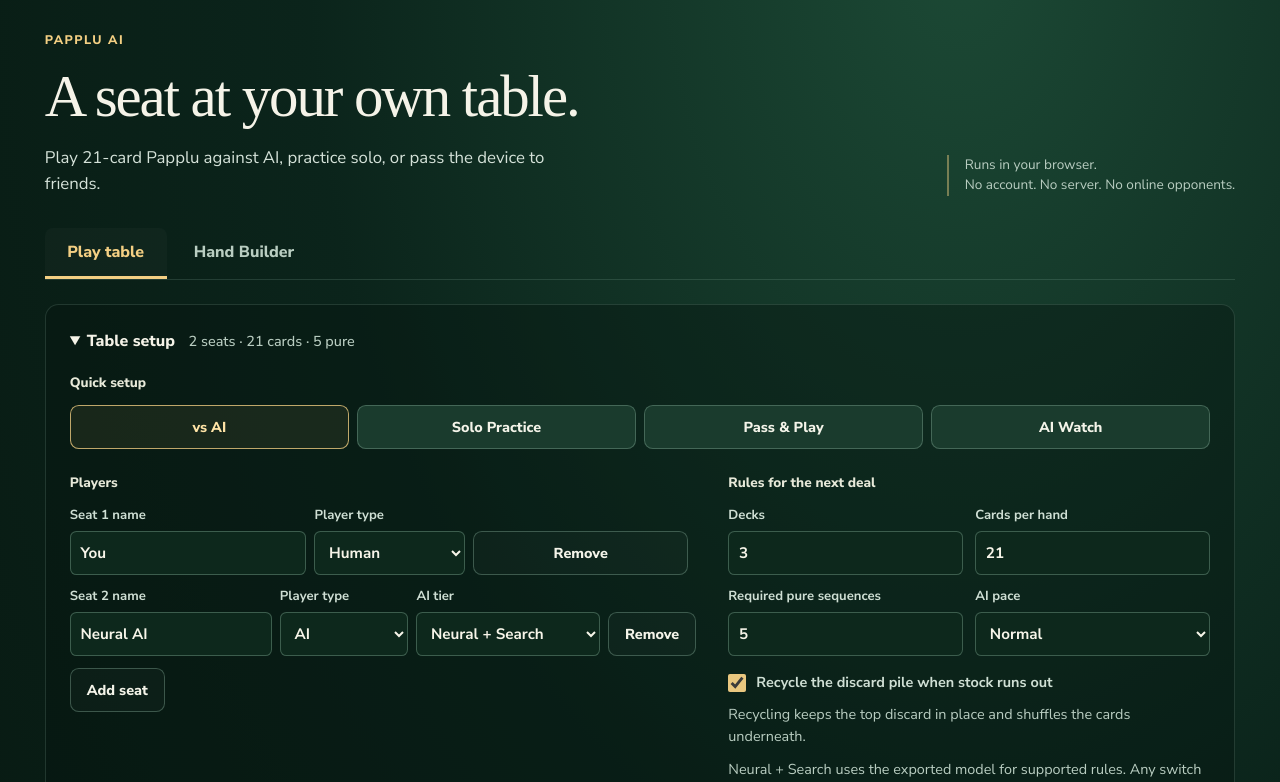
Test case: leaving during builder evaluation keeps the draft and allows a new check after returning
Click the tab "Hand Builder" at x=244, y=253, box [171,228,316,279]
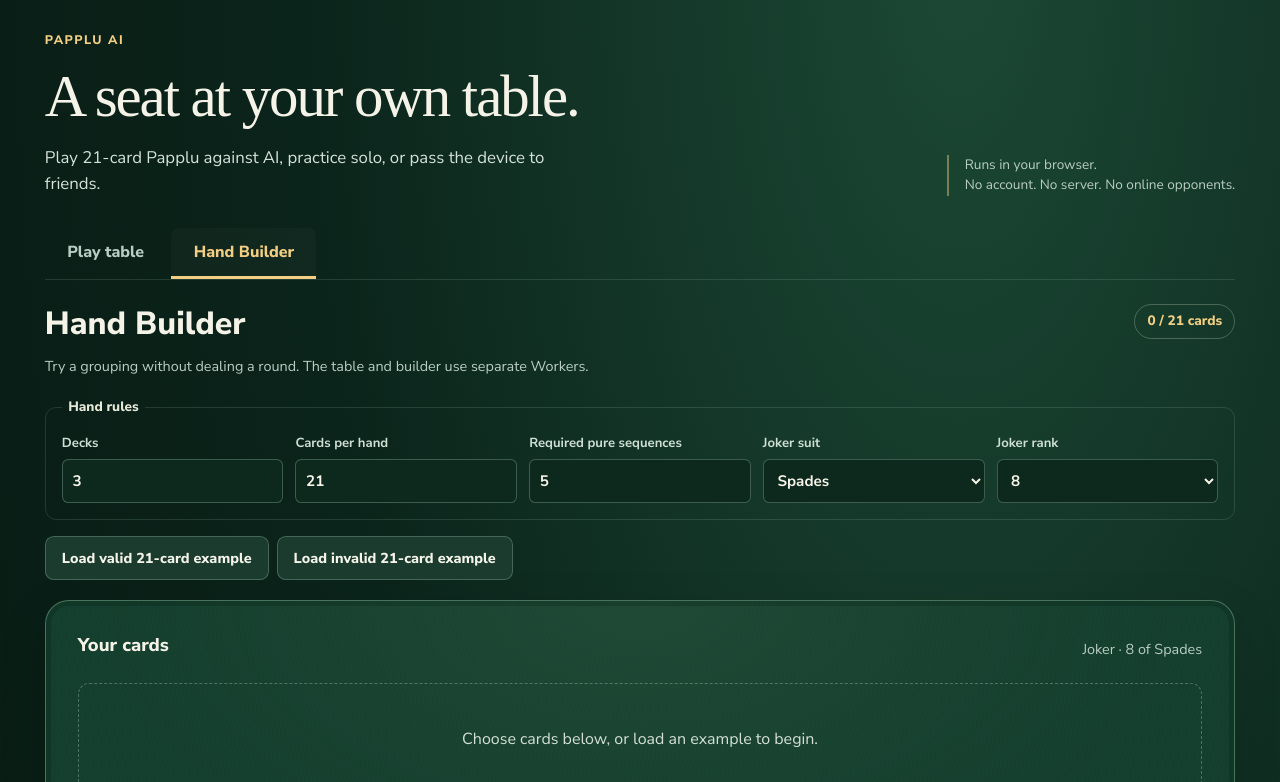
Click the button "Load valid 21-card example" at x=157, y=558, box [45,536,269,580]
(page scrolled)
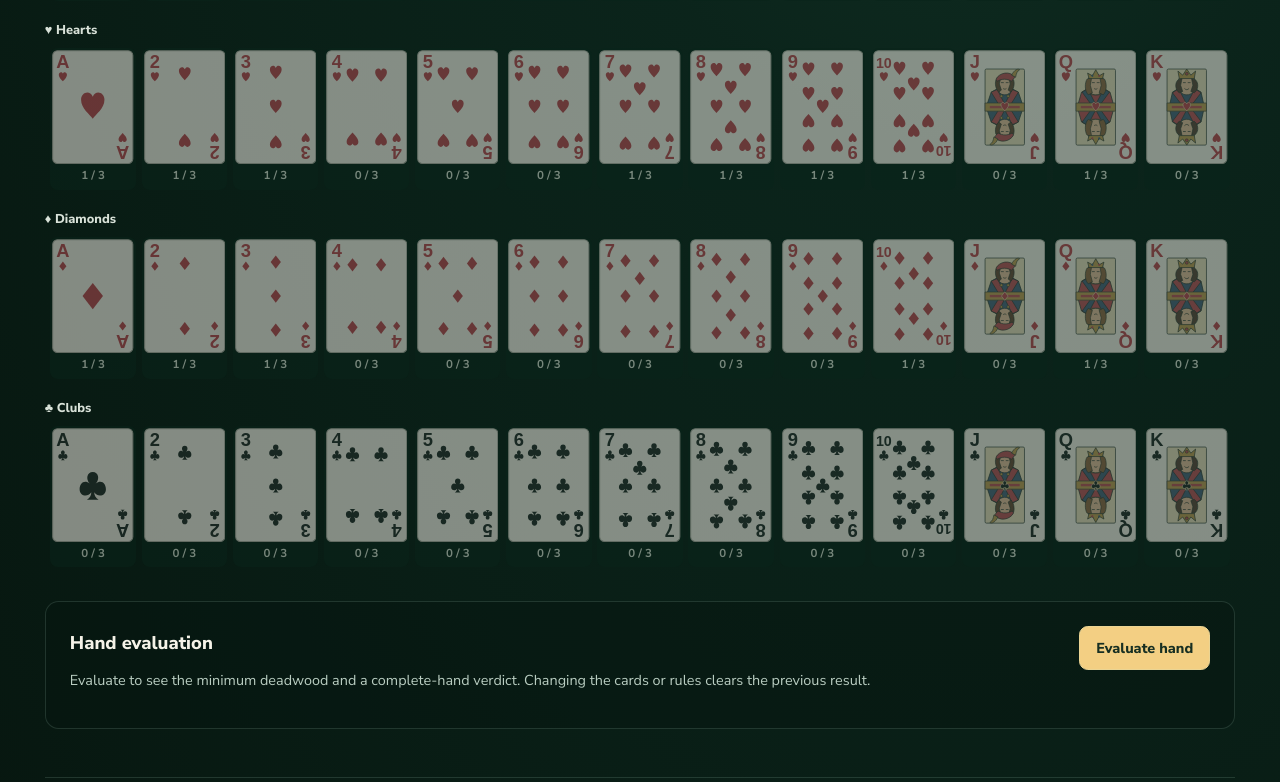
Click the button "Evaluate hand" at x=1145, y=648, box [1079,626,1210,670]
(page scrolled)
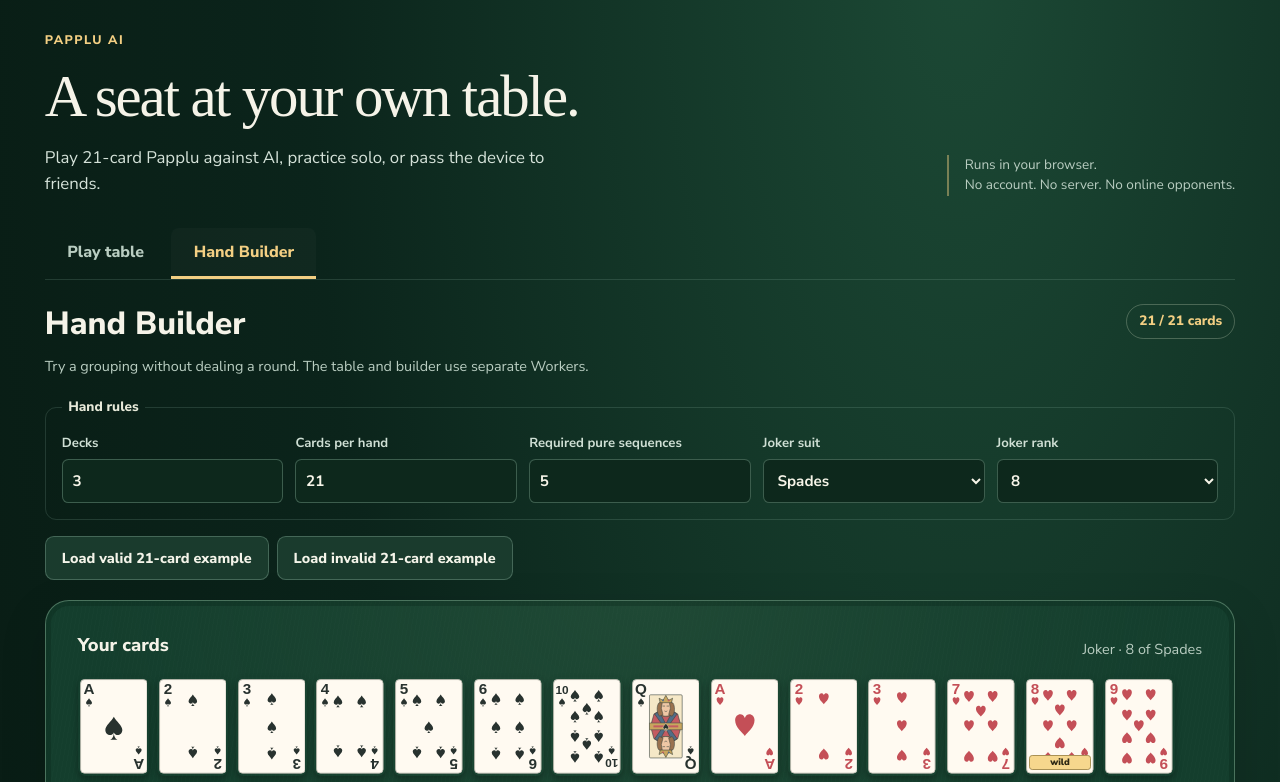
Click the tab "Play table" at x=106, y=253, box [45,228,166,279]
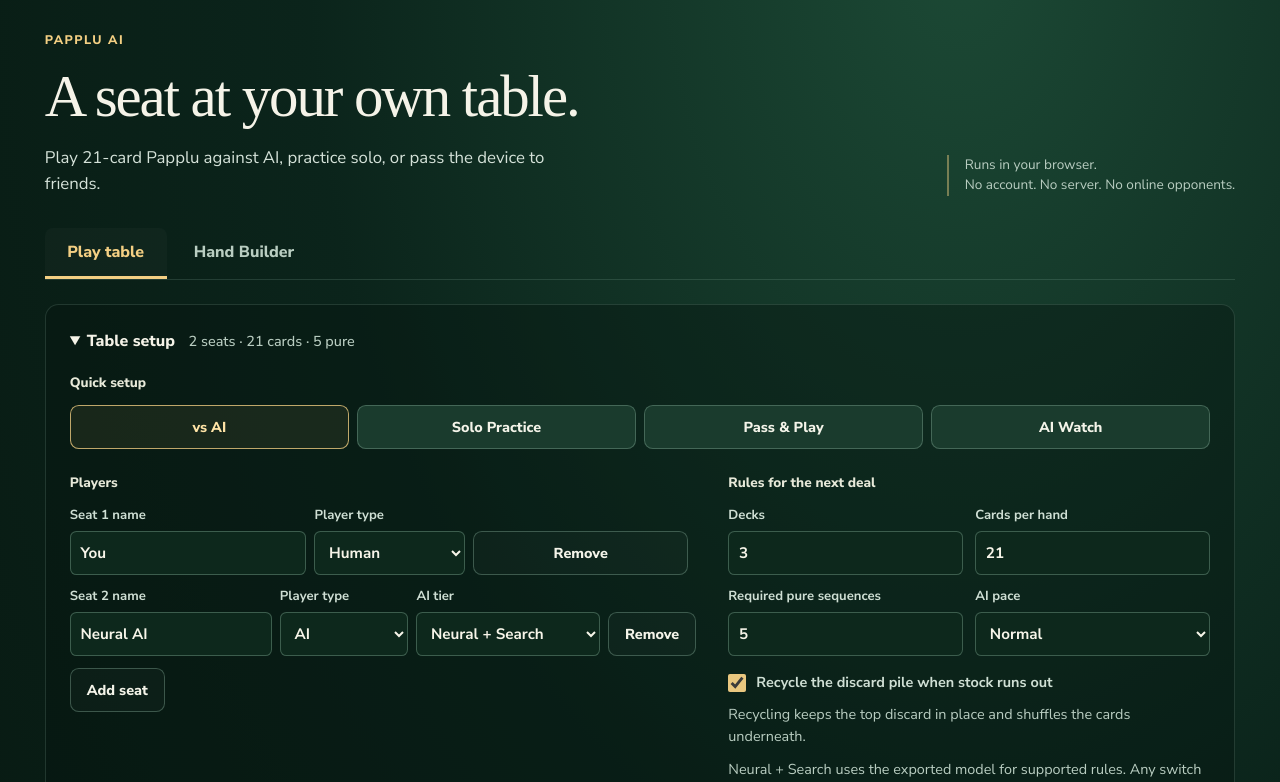
Click the tab "Hand Builder" at x=244, y=253, box [171,228,316,279]
(page scrolled)
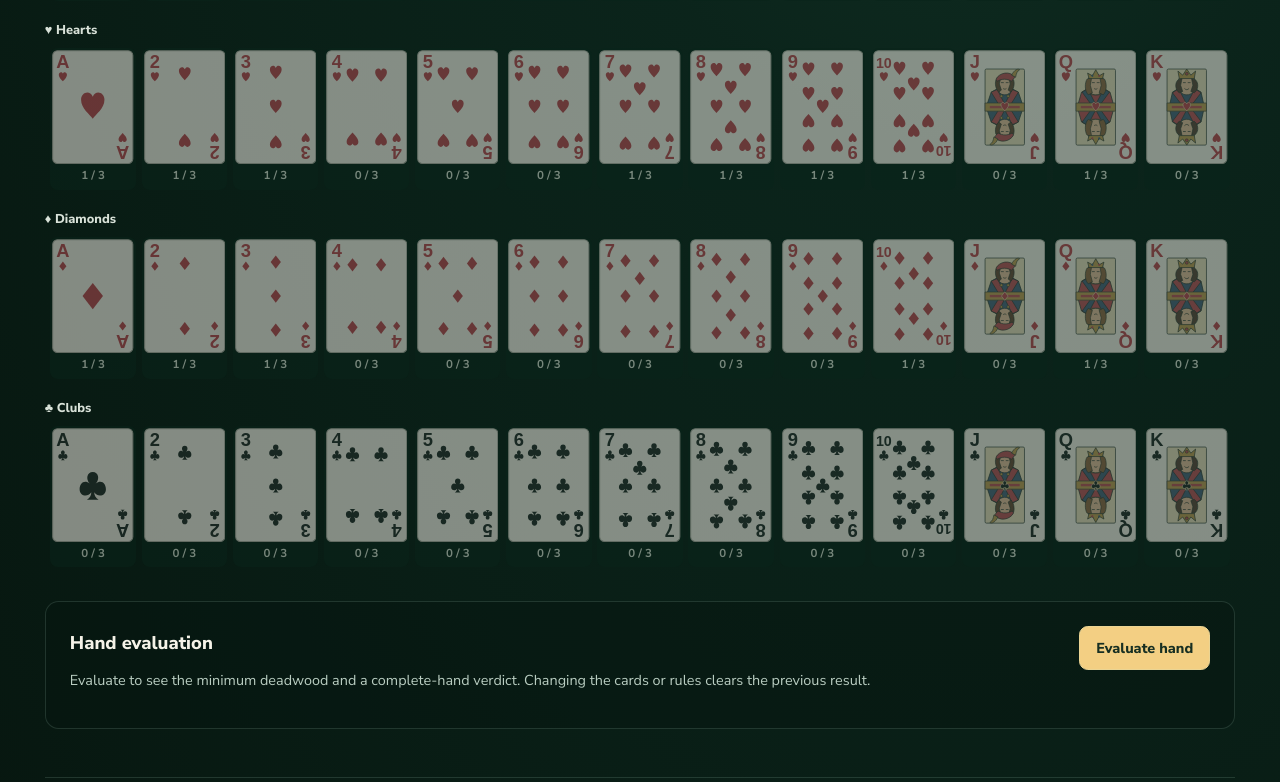
Check: the button "Evaluate hand" is enabled
Click the button "Evaluate hand" at x=1145, y=648, box [1079,626,1210,670]
(page scrolled)
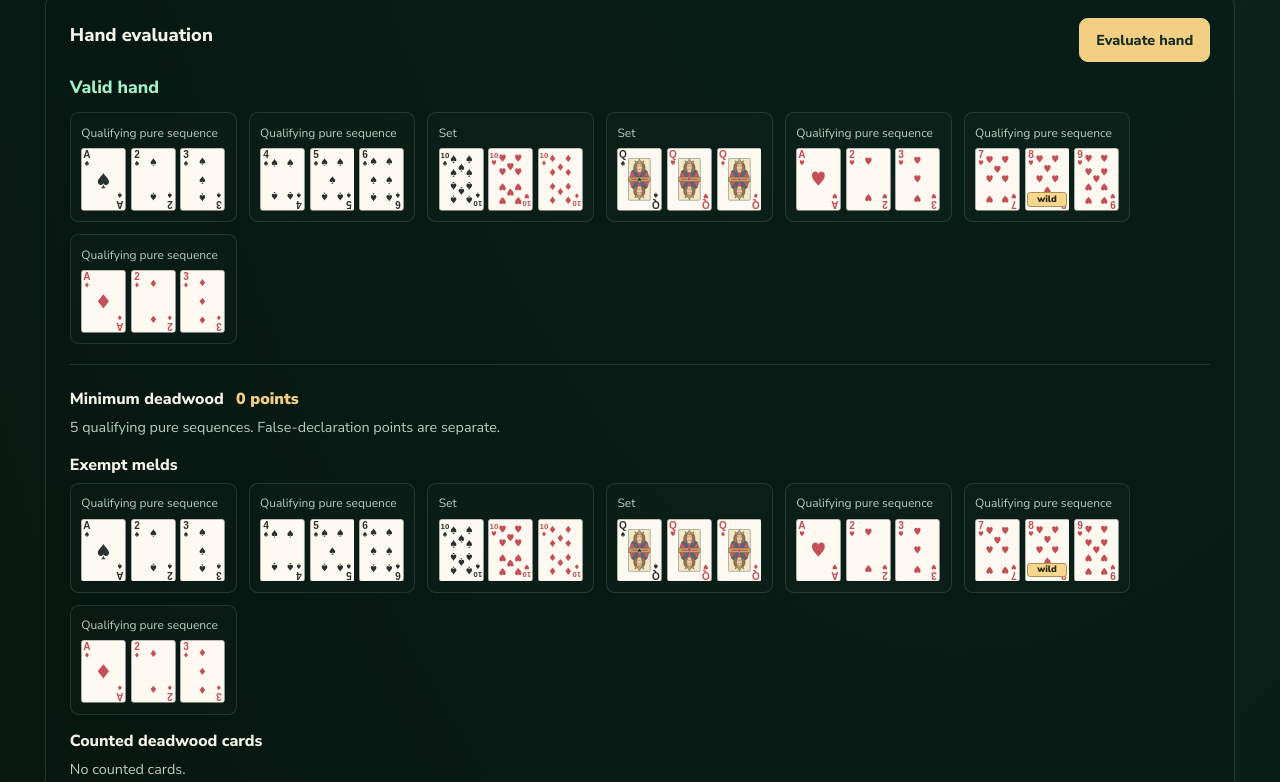
Check: the text "Valid hand" is shown, box [70,75,159,99]
Check: the heading "Minimum deadwood 0 points" is shown, box [70,388,299,410]
